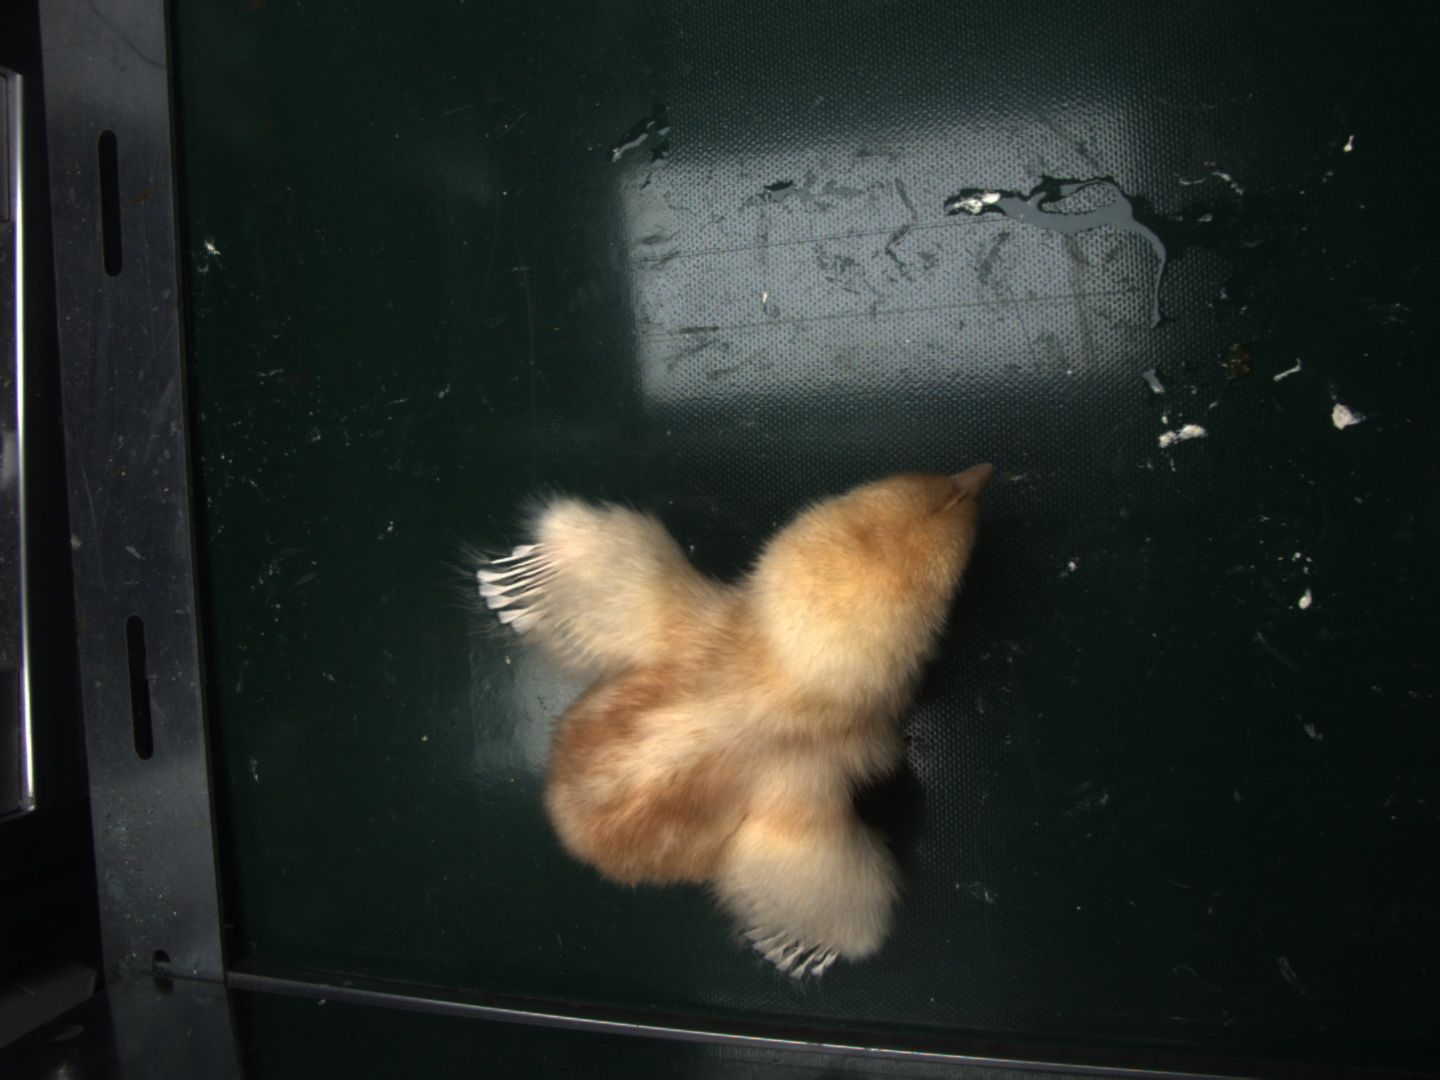female: (477, 545, 560, 628)
